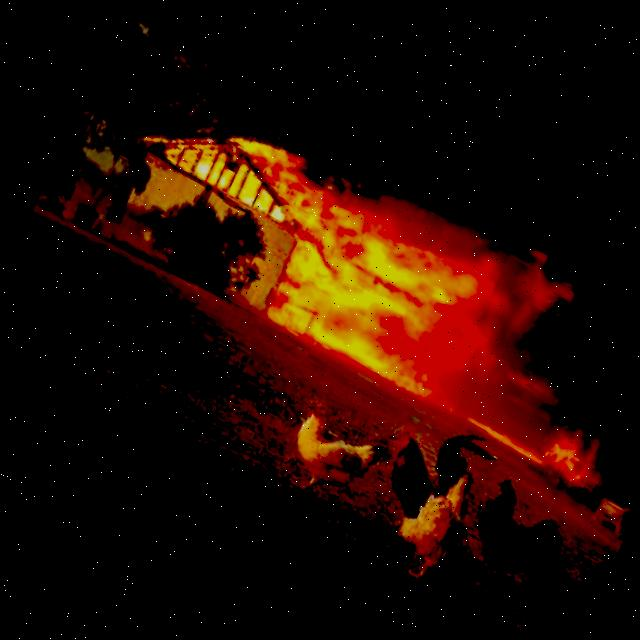Fire: (76, 39, 538, 422), (449, 359, 612, 489)
Smoke: (183, 126, 562, 443)
